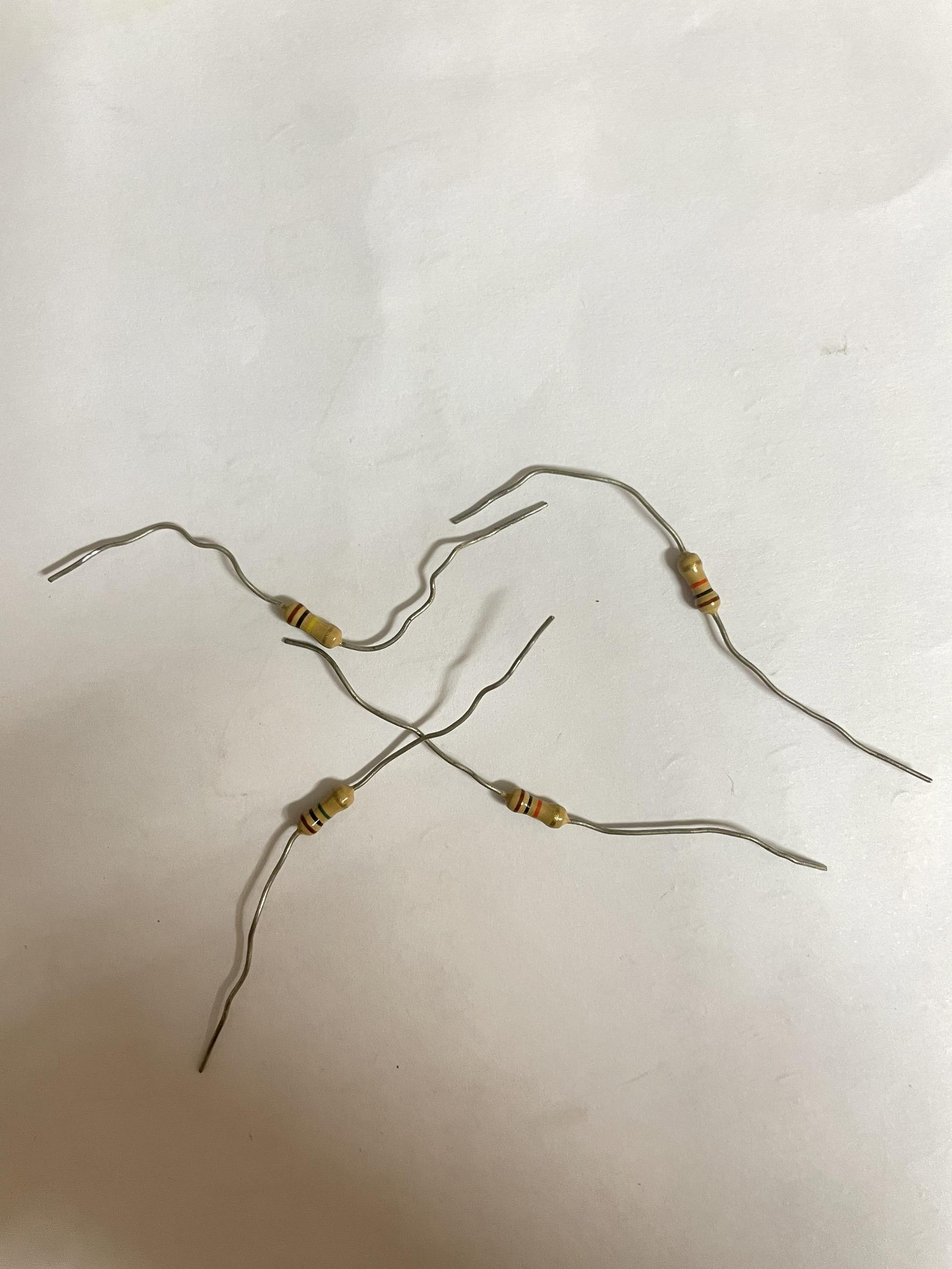resistor: (501, 786, 571, 835), (283, 599, 341, 649), (676, 553, 721, 616), (297, 786, 354, 834)
